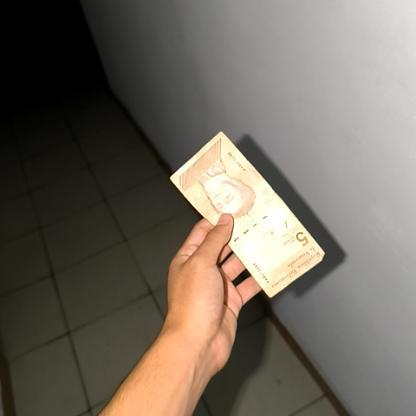five-front-vef: (168, 129, 326, 298)
